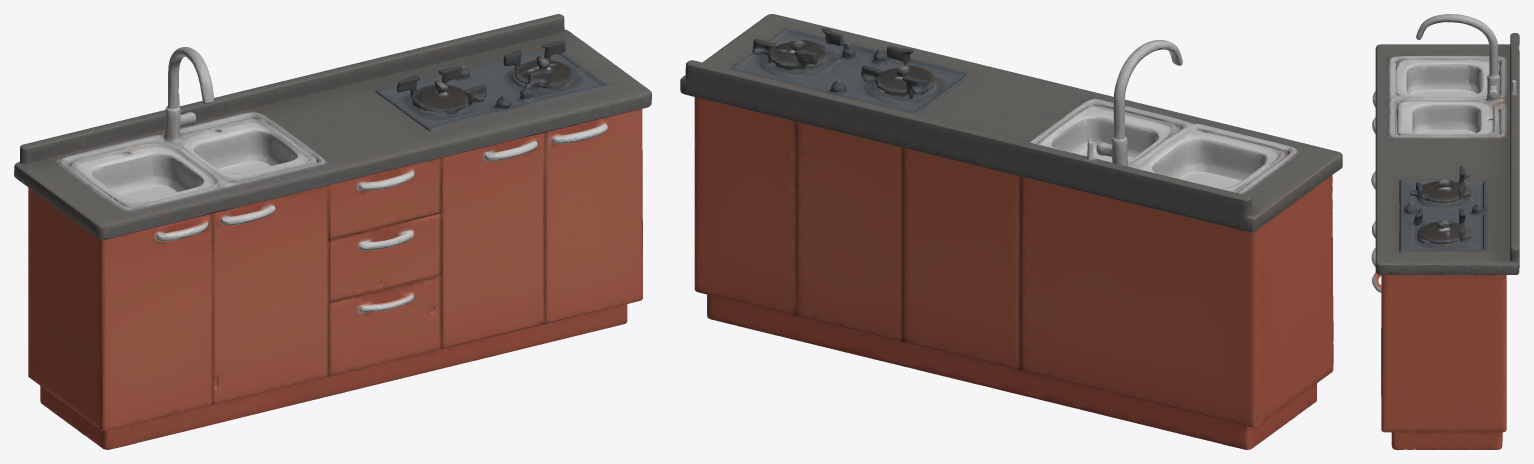
Rendered from item_16bd0ed5.glb.
3 renders of one model, left to right at view 1: azimuth 30°, elevation 25°; view 2: azimuth 150°, elevation 25°; view 3: azimuth 270°, elevation 25°, orthographic. The views are drawn at different scales.
Parts seen in each view (by area): view 1: world; view 2: world; view 3: world.
Part boxes in pixels (box(x1,y1,x2,y2)): world: box(14, 14, 651, 449); world: box(680, 14, 1342, 449); world: box(1371, 14, 1519, 449).
Bounding box in the file's own units: 2.4 × 1.41 × 0.6801.
Materials: 1 (1 with a texture image).
